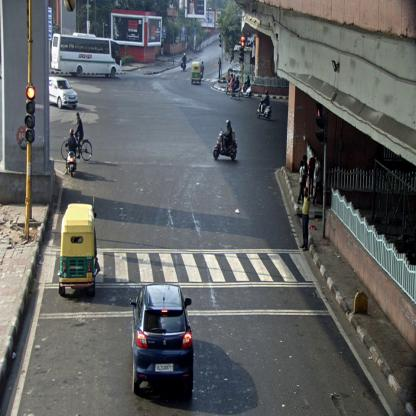bus: (50, 33, 123, 79)
car: (130, 285, 194, 404)
motorcycle: (61, 112, 92, 161), (212, 118, 236, 162), (66, 126, 78, 176), (256, 88, 271, 120), (239, 75, 252, 98), (230, 76, 241, 102), (224, 74, 234, 96), (182, 51, 186, 71)
